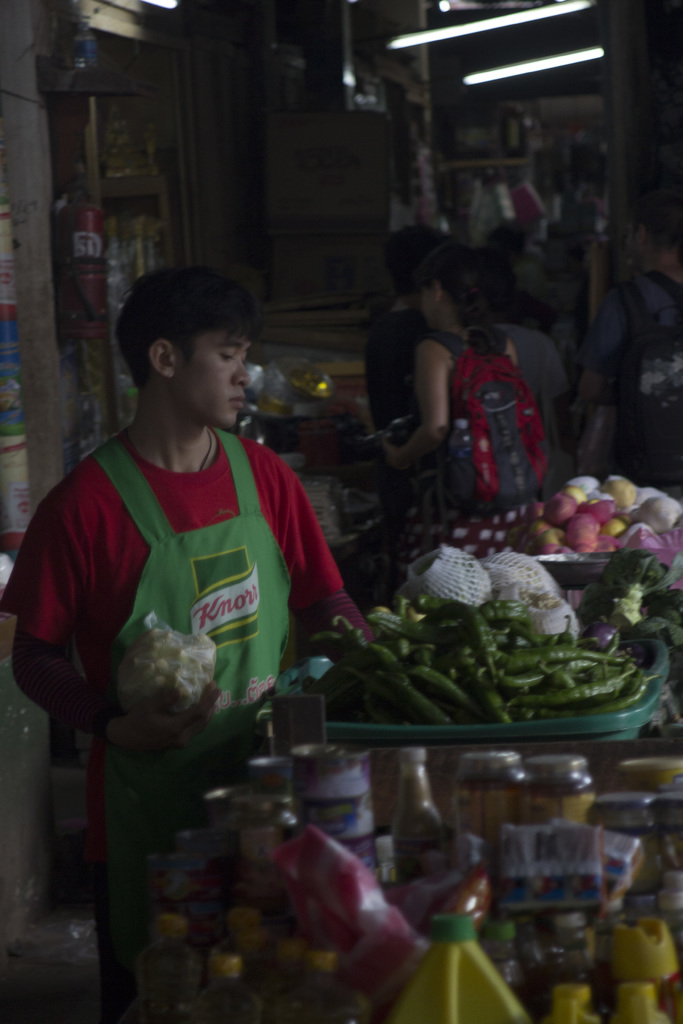Human_hand: (110, 678, 223, 760), (383, 442, 416, 479)
